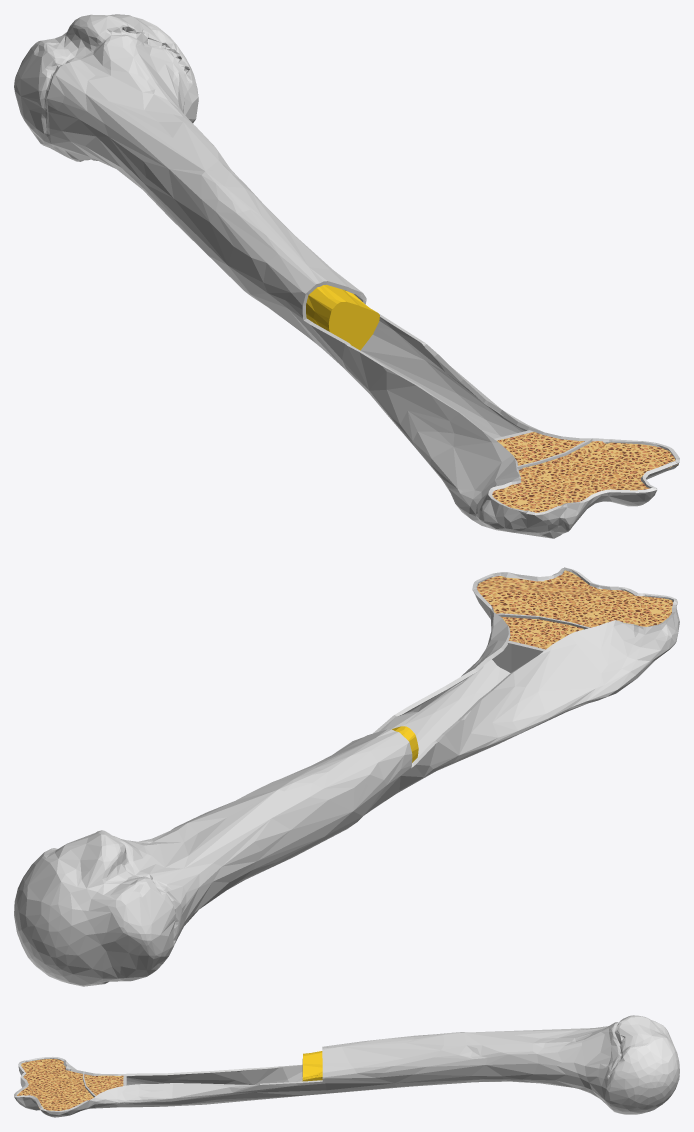
File: bone_marrow.glb
3 renders of one model, top to bottom at view 1: azimuth 30°, elevation 25°; view 2: azimuth 150°, elevation 25°; view 3: azimuth 270°, elevation 25°, orthographic. The views are drawn at different scales.
Visible parts, largest first — view 1: Humerus, Inside.001, Humerus.002; view 2: Humerus, Inside.001, Cube.001; view 3: Humerus, Inside.001, Humerus.002.
Boxes of the visible parts, x1,y1,x2,y2 form: Humerus: (14, 14, 679, 538); Inside.001: (492, 432, 677, 512); Humerus.002: (306, 284, 379, 350); Humerus: (14, 567, 679, 986); Inside.001: (477, 570, 672, 649); Cube.001: (492, 640, 545, 672); Humerus: (14, 1015, 679, 1117); Inside.001: (17, 1059, 123, 1110); Humerus.002: (302, 1051, 322, 1081).
Bounding box in the file's own units: 0.8286 × 0.6632 × 4.04.
3 materials, 1 textured.
